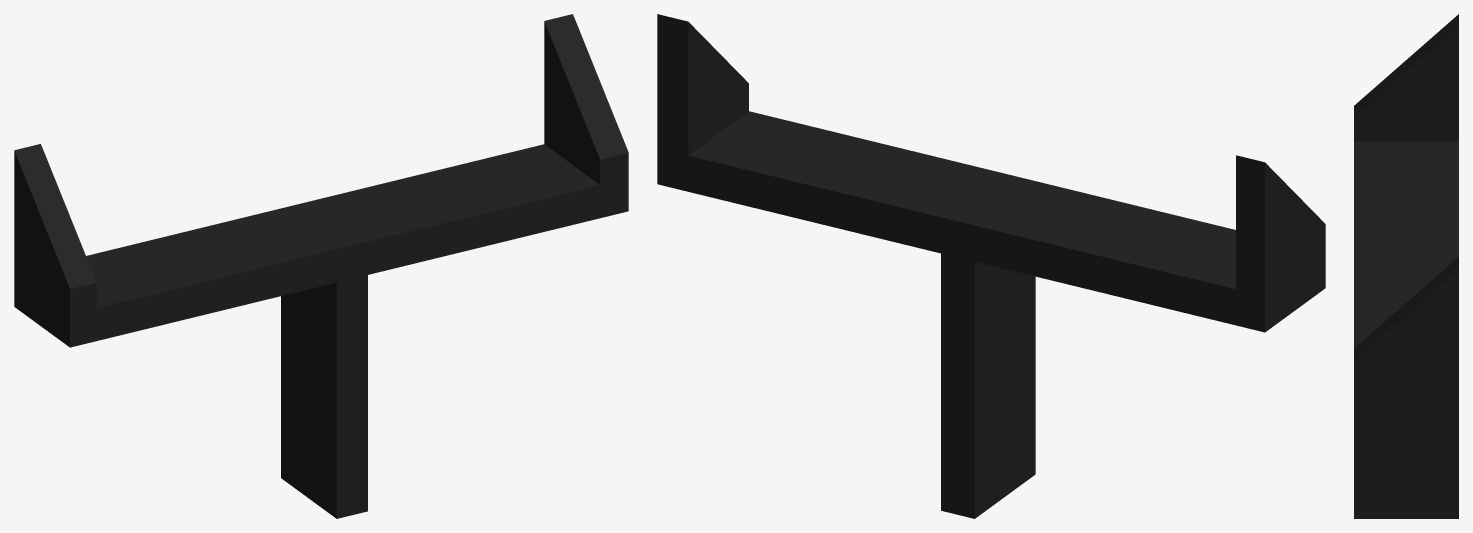
Rendered from spoiler3.glb.
3 renders of one model, left to right at view 1: azimuth 30°, elevation 25°; view 2: azimuth 150°, elevation 25°; view 3: azimuth 270°, elevation 25°, orthographic. The views are drawn at different scales.
Parts seen in each view (by area): view 1: spoiler3; view 2: spoiler3; view 3: spoiler3.
Part boxes in pixels (bbox=[...]): spoiler3: bbox=[14, 14, 628, 518]; spoiler3: bbox=[657, 14, 1325, 518]; spoiler3: bbox=[1354, 14, 1458, 518].
Size of the model in its own units: 1.46 by 0.9829 by 0.2531.
1 material, 1 textured.
